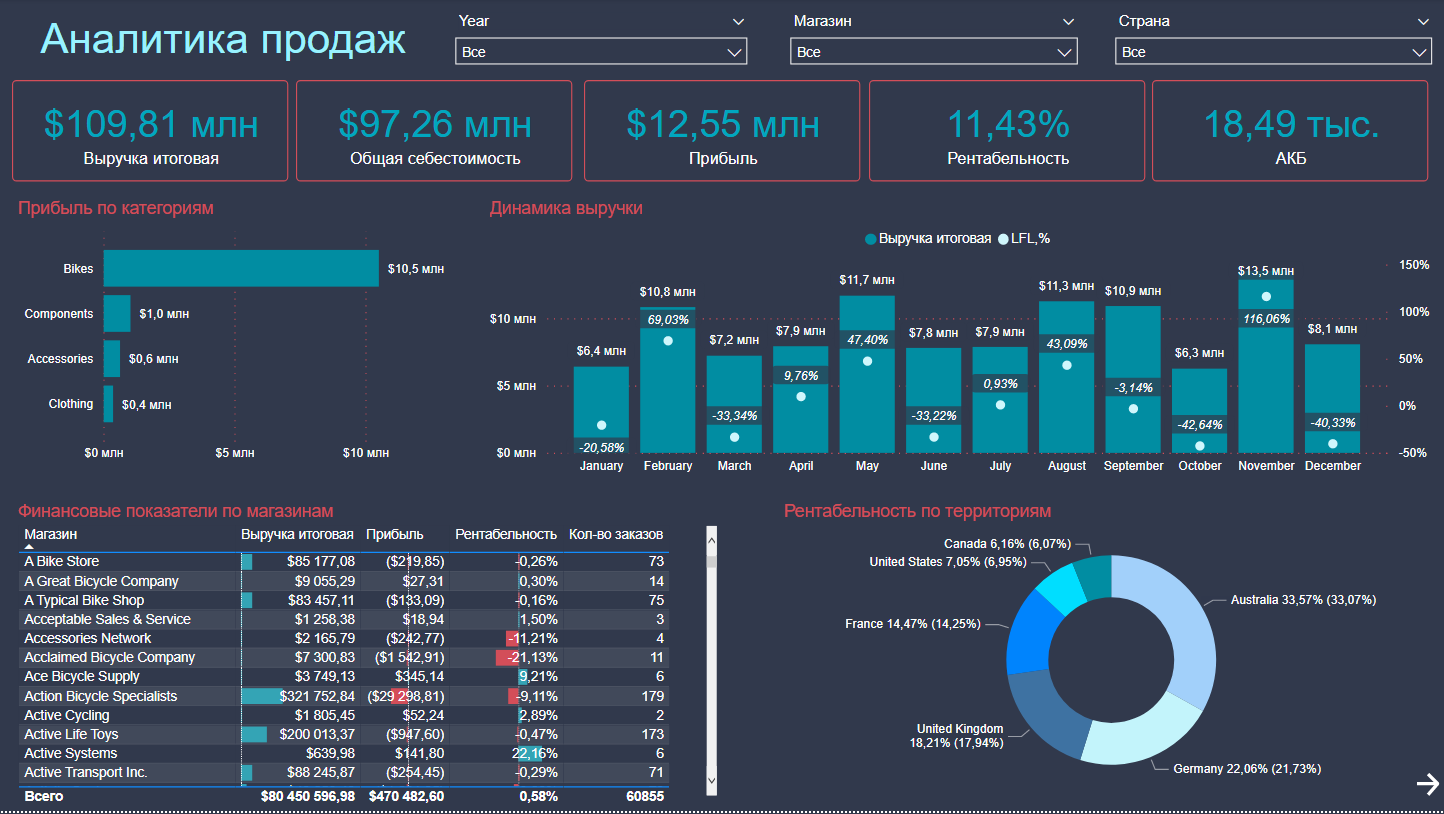

The page's visual inventory and layout, read from the dashboard file:
{"tool":"powerbi","page":{"name":"Аналитика продаж","canvas":[1280,720],"ordinal":0},"visuals":[{"type":"slicer","fields":{"Values":["СПР_территории.Страна"]},"box":[978.9,7.1,301.5,64.7],"z":0},{"type":"card","fields":{"Values":["Sum(Продажи.Выручка итоговая)"]},"box":[10.6,71.8,244.7,89.6],"z":1000},{"type":"card","fields":{"Values":["Sum(Продажи.Общая стоимость, руб)"]},"box":[262.5,71.8,244.7,89.6],"z":2000},{"type":"card","fields":{"Values":["Продажи.Прибыль"]},"box":[517.8,71.8,244.7,89.6],"z":3000},{"type":"card","fields":{"Values":["Продажи.Рентабельность"]},"box":[770.5,71.8,244.7,89.6],"z":4000},{"type":"donutChart","title":"Рентабельность по территориям","fields":{"Y":["Продажи.Рентабельность"],"Category":["СПР_территории.Страна"]},"box":[689.9,445.1,590.5,265.1],"z":5000},{"type":"slicer","fields":{"Values":["СПР_Магазины.Магазин"]},"box":[690.7,7.1,274.9,64.7],"z":6000},{"type":"clusteredBarChart","title":"Прибыль по категориям","fields":{"Category":["СПР_товар.Категория"],"Y":["Продажи.Прибыль"]},"box":[10.6,176.5,409.7,241.2],"z":7000},{"type":"lineStackedColumnComboChart","title":"Динамика выручки","fields":{"Category":["СПР_Календарь.Полная дата.Изменение.Date Hierarchy.Month"],"Y":["Sum(Продажи.Выручка итоговая)"],"Y2":["Продажи.LFL"]},"box":[429.2,176.5,844.1,251.8],"z":8000},{"type":"slicer","fields":{"Values":["СПР_Календарь.Полная дата.Изменение.Date Hierarchy.Year"]},"box":[393.7,7.1,279.3,64.7],"z":9000},{"type":"tableEx","title":"Финансовые показатели по магазинам","fields":{"Values":["СПР_Магазины.Магазин","Sum(Продажи.Выручка итоговая)","Продажи.Прибыль","Продажи.Рентабельность","CountNonNull(Продажи.ИД_Заказа)"]},"box":[10.6,445.1,629.6,274.9],"z":10000},{"type":"card","fields":{"Values":["Count(Продажи.Ключ_Клиент)"]},"box":[1021.5,71.8,244.7,89.6],"z":11000},{"type":"textbox","box":[10.6,8.9,374.2,63],"z":12000},{"type":"actionButton","box":[1251.1,673.9,29.3,46.1],"z":13000}]}

Visuals, with their boxes in screenshot pixels (x1, y1, x2, y2), scaled from the page's 1280x720 canvas onto the 1444x814 screenshot:
slicer - СПР_территории.Страна: {"x1": 1104, "y1": 8, "x2": 1443, "y2": 81}
card - Sum(Продажи.Выручка итоговая): {"x1": 12, "y1": 81, "x2": 288, "y2": 182}
card - Sum(Продажи.Общая стоимость, руб): {"x1": 296, "y1": 81, "x2": 572, "y2": 182}
card - Продажи.Прибыль: {"x1": 584, "y1": 81, "x2": 860, "y2": 182}
card - Продажи.Рентабельность: {"x1": 869, "y1": 81, "x2": 1145, "y2": 182}
"Рентабельность по территориям" donutChart: {"x1": 778, "y1": 503, "x2": 1443, "y2": 803}
slicer - СПР_Магазины.Магазин: {"x1": 779, "y1": 8, "x2": 1089, "y2": 81}
"Прибыль по категориям" clusteredBarChart: {"x1": 12, "y1": 200, "x2": 474, "y2": 472}
"Динамика выручки" lineStackedColumnComboChart: {"x1": 484, "y1": 200, "x2": 1436, "y2": 484}
slicer - СПР_Календарь.Полная дата.Изменение.Date Hierarchy.Year: {"x1": 444, "y1": 8, "x2": 759, "y2": 81}
"Финансовые показатели по магазинам" tableEx: {"x1": 12, "y1": 503, "x2": 722, "y2": 813}
card - Count(Продажи.Ключ_Клиент): {"x1": 1152, "y1": 81, "x2": 1428, "y2": 182}
textbox: {"x1": 12, "y1": 10, "x2": 434, "y2": 81}
actionButton: {"x1": 1411, "y1": 762, "x2": 1443, "y2": 813}
